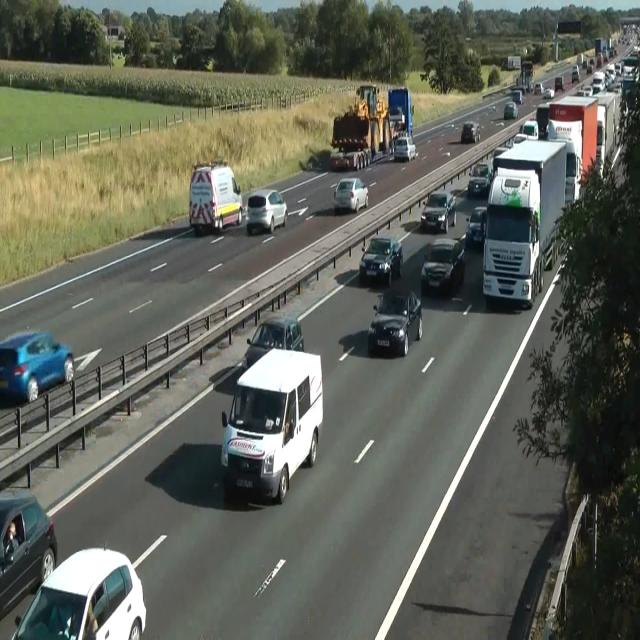bus: (0, 486, 58, 620), (0, 329, 74, 403), (368, 286, 422, 356), (242, 316, 304, 372), (359, 234, 403, 284), (245, 188, 287, 234), (333, 176, 369, 213), (329, 146, 372, 170), (465, 206, 487, 247), (467, 162, 491, 196), (394, 136, 416, 162), (491, 146, 509, 175), (460, 121, 480, 143), (520, 119, 538, 140), (504, 101, 518, 119), (512, 132, 528, 146), (511, 89, 523, 104), (577, 85, 593, 96), (554, 76, 564, 92), (542, 86, 554, 99), (572, 64, 580, 83), (586, 58, 594, 74), (534, 82, 544, 94)
car: (330, 84, 392, 156)
jeep: (220, 347, 324, 504), (11, 542, 147, 638), (188, 159, 242, 234), (420, 238, 465, 294), (420, 189, 456, 233)
minibus: (483, 138, 569, 308), (546, 94, 598, 204), (595, 90, 621, 180), (388, 86, 414, 140), (520, 61, 534, 92), (507, 55, 521, 70)
